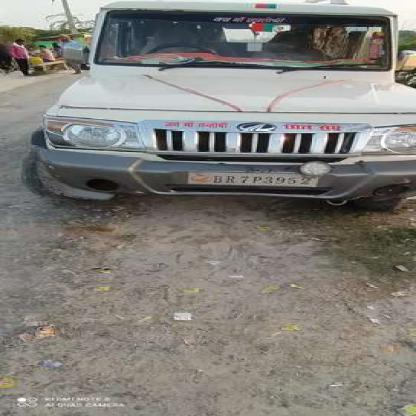license_plate: (185, 170, 315, 186)
